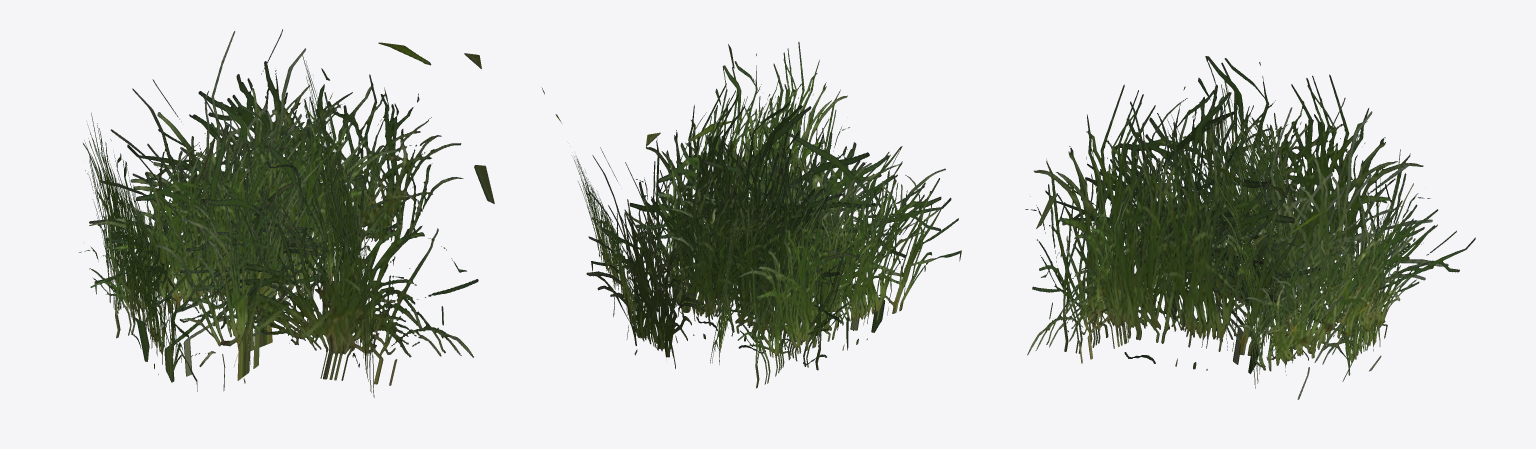
The model's file is meadow_grass_002_b_LOD1.gltf.
The picture shows the model from 3 angles, left to right: view 1: azimuth 30°, elevation 25°; view 2: azimuth 150°, elevation 25°; view 3: azimuth 270°, elevation 25°; orthographic projection. The views are drawn at different scales.
Visible parts, largest first — view 1: meadow_grass_002_b_LOD1; view 2: meadow_grass_002_b_LOD1; view 3: meadow_grass_002_b_LOD1.
Part boxes in pixels (bbox=[...]): meadow_grass_002_b_LOD1: bbox=[79, 29, 494, 397]; meadow_grass_002_b_LOD1: bbox=[541, 42, 961, 388]; meadow_grass_002_b_LOD1: bbox=[1025, 56, 1475, 399].
Size of the model in its own units: 1.18 by 0.7546 by 1.32.
1 material, 1 textured.
